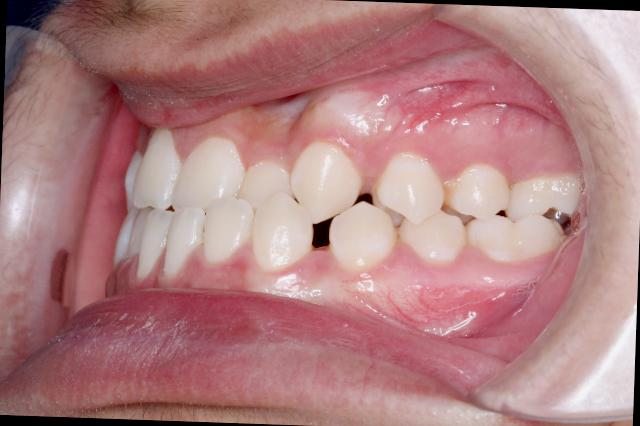canine class II 1/4: (252, 133, 400, 289)
molar class I: (464, 164, 588, 274)
